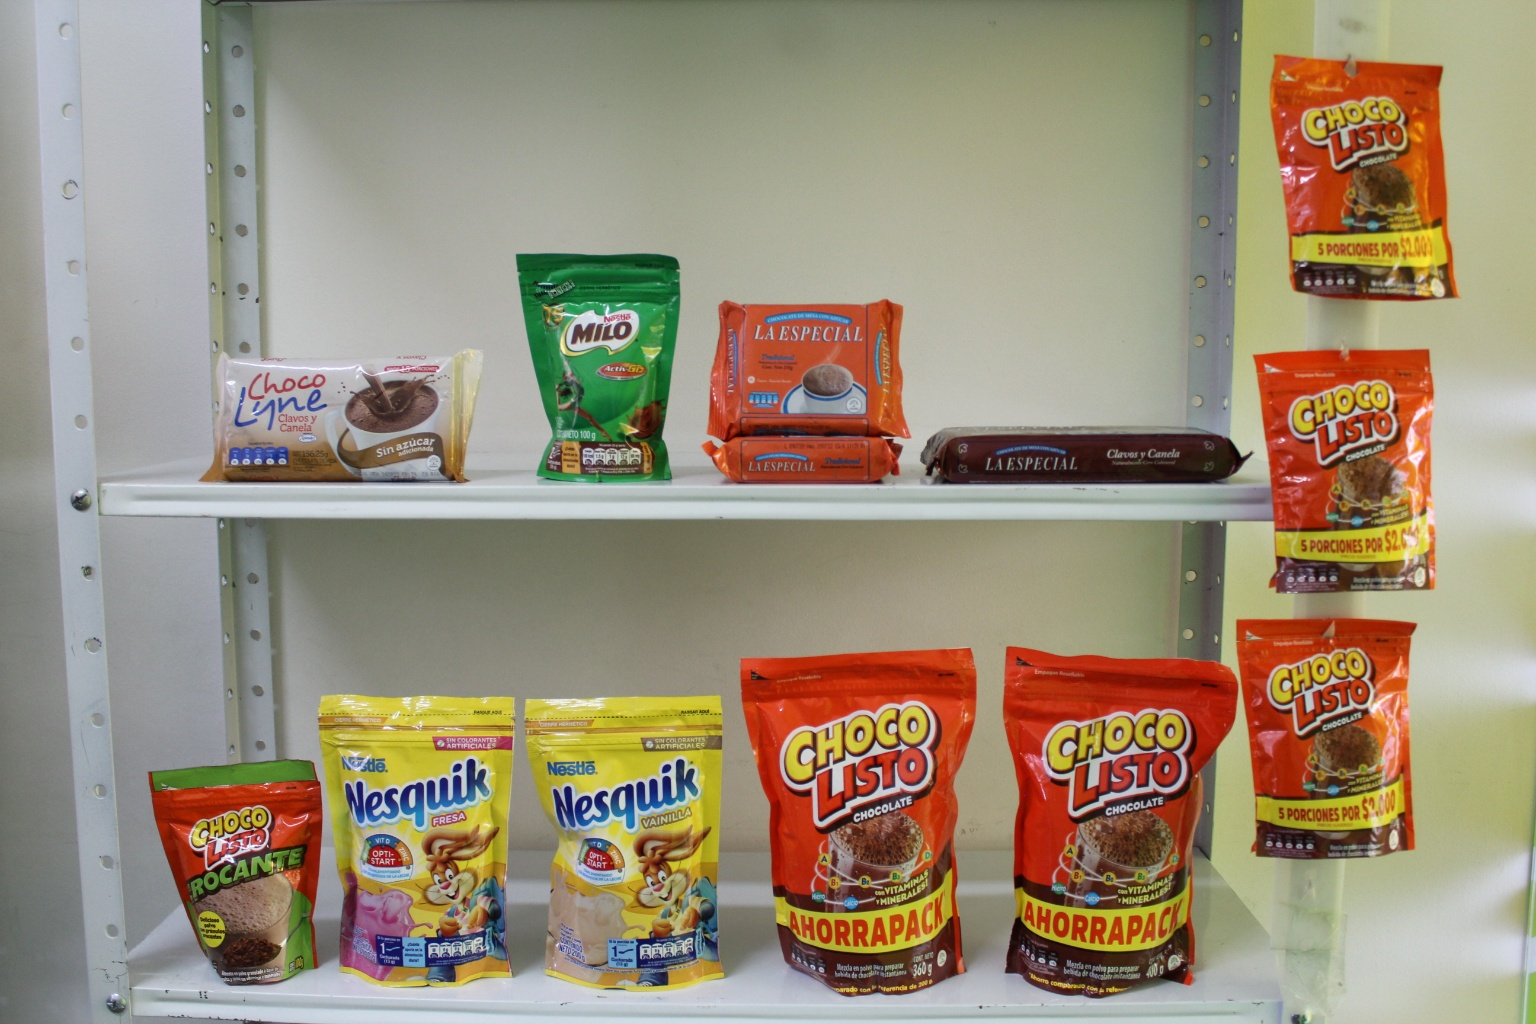COL0170102DYP10000: (128, 742, 338, 999)
COL0170103DYP10000: (1266, 53, 1478, 320)
COL0170103DYP36000: (745, 639, 998, 984)
COL0170103DYP40000: (1005, 639, 1248, 1007)
COL0170203DYP10000: (519, 238, 698, 487)
COL0170305DYP20000: (321, 685, 517, 985)
COL0170306DYP20000: (513, 679, 735, 992)
